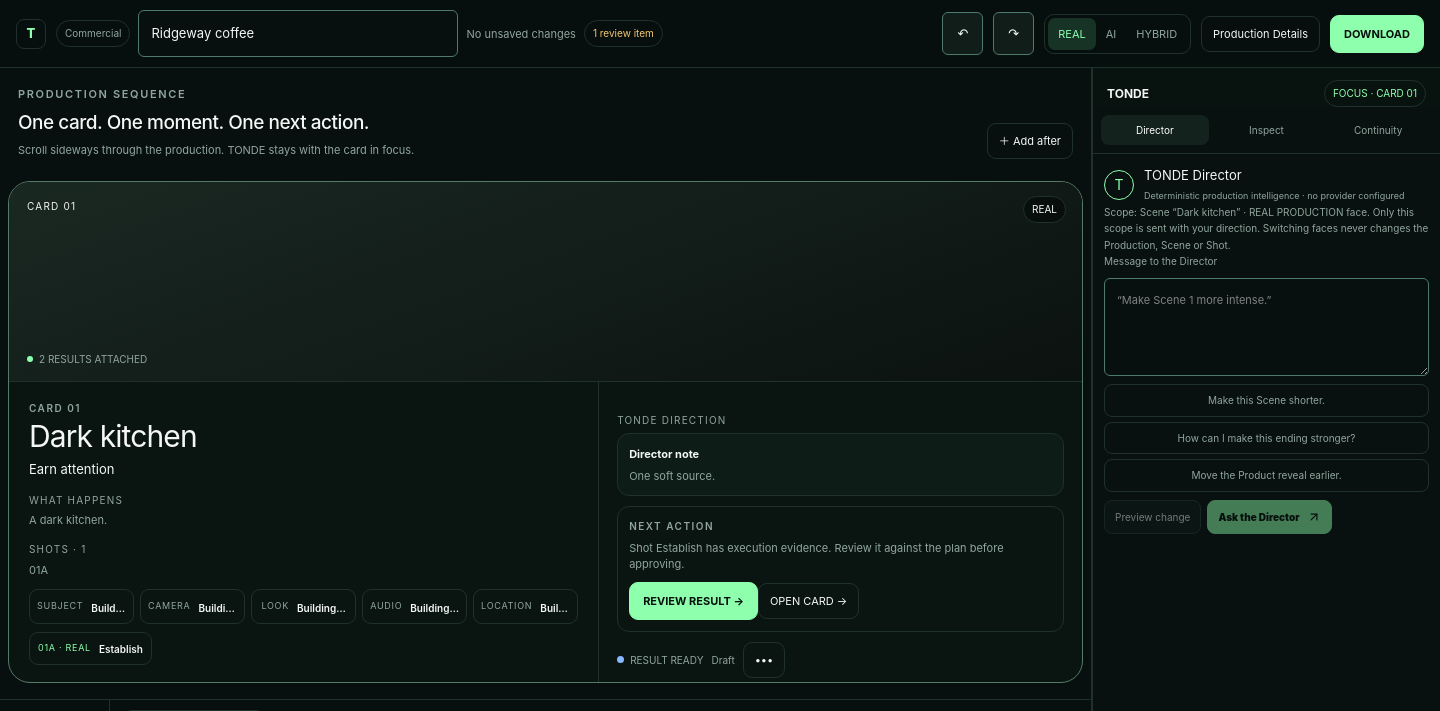
Scenario: Card-first Studio views › routes a card with execution evidence to Results and accepts the Result through Shot Match
The width and height of the screenshot is (1440, 711).
expect the text "RESULT READY" is shown: met, box [617,652,703,668]
Click the button "REVIEW RESULT →" at coordinates (694, 601), box [629,582,758,620]
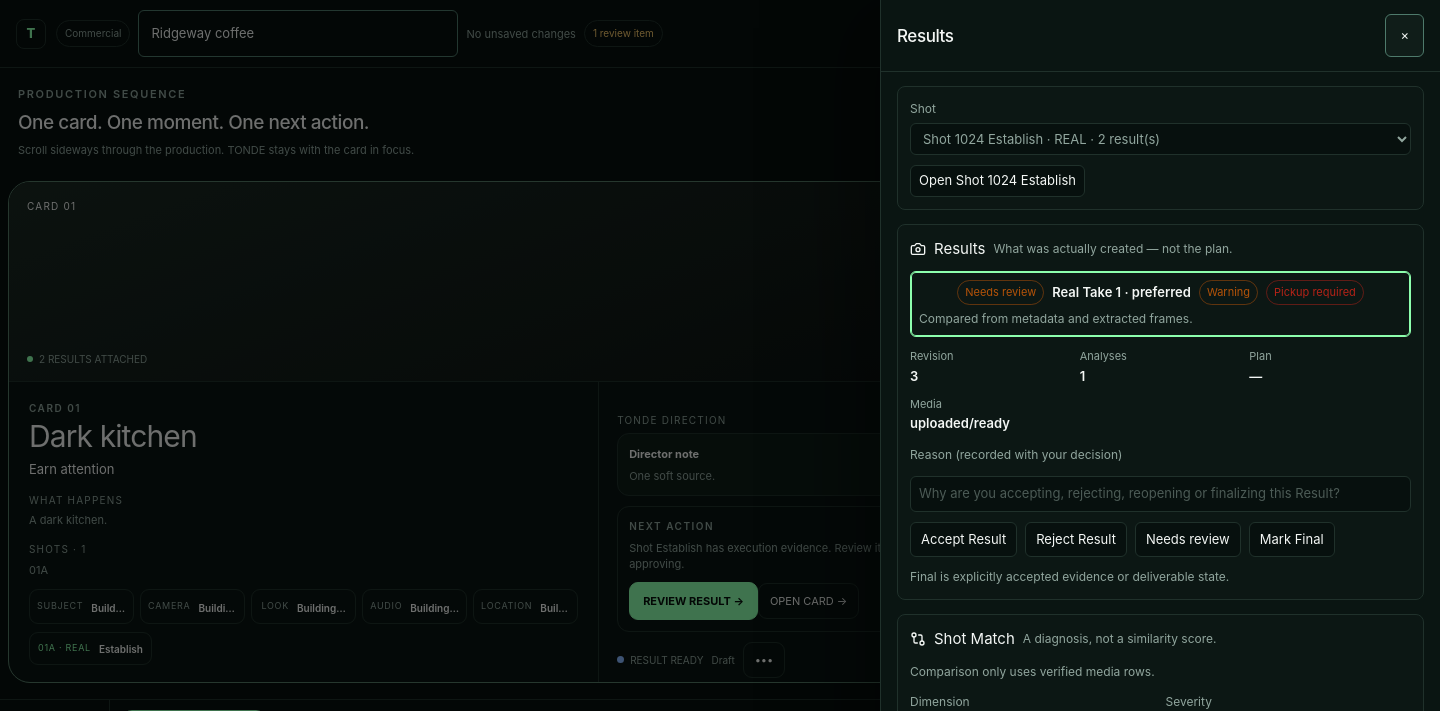
expect the list named "Recorded results" is shown: met, box [910,271,1411,337]
expect the text "Real Take 1 · preferred" is shown: met, box [1052,282,1191,303]
Click the button "Accept Result" at coordinates (964, 540), box [910,522,1017,557]
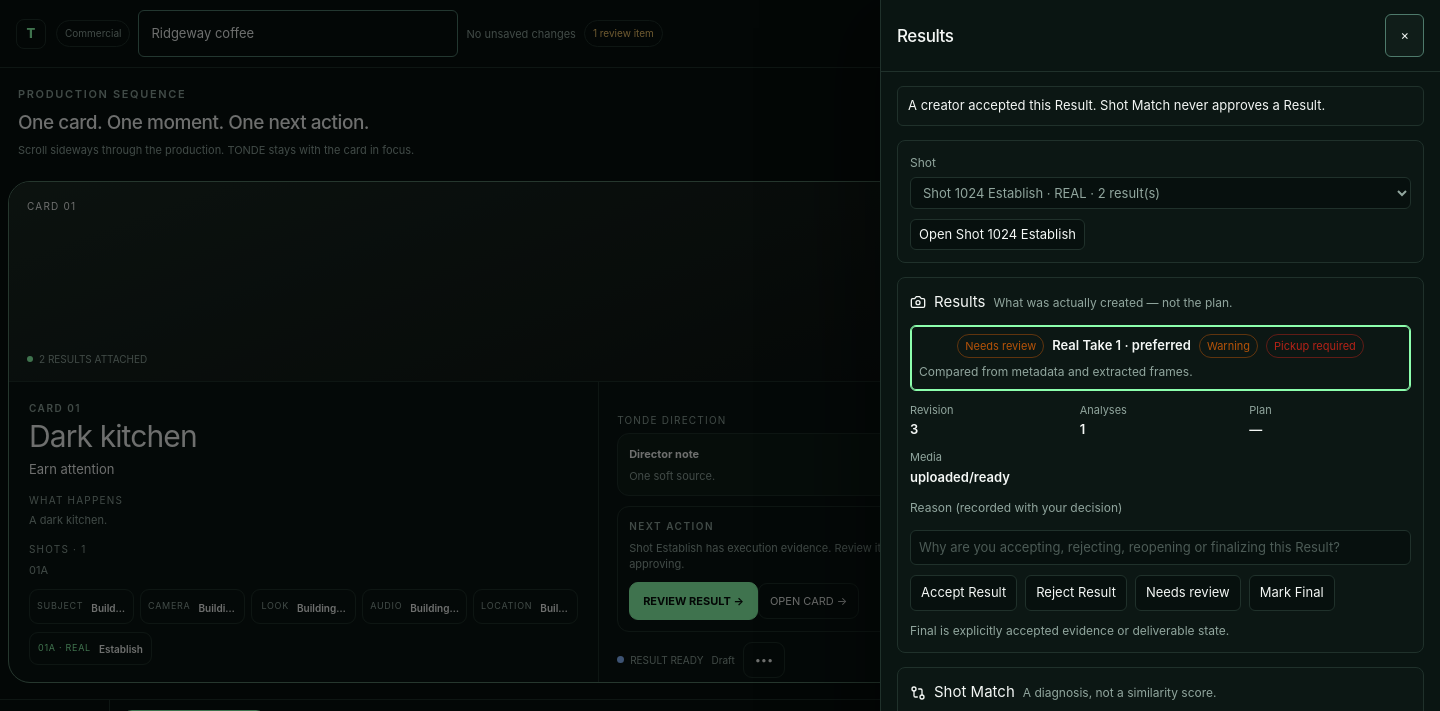
expect the text "A creator accepted this Result. Shot Match never approves a Result." is shown: met, box [897,86,1424,126]
